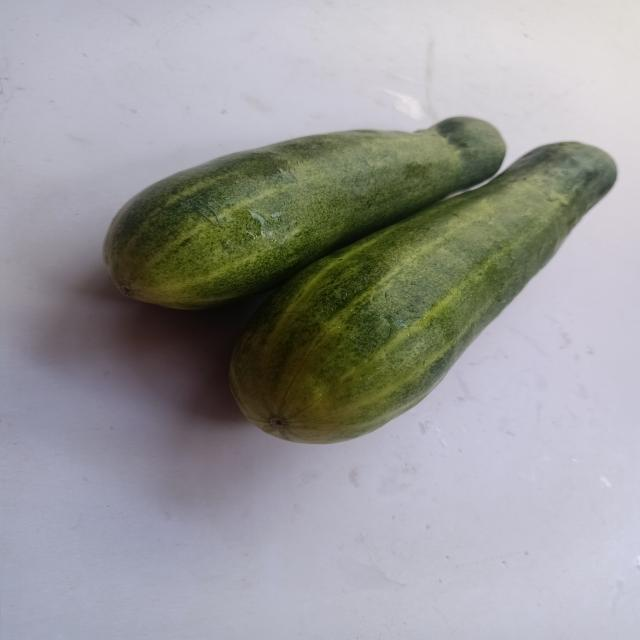Cucumber: (229, 141, 617, 444), (102, 116, 506, 309)
